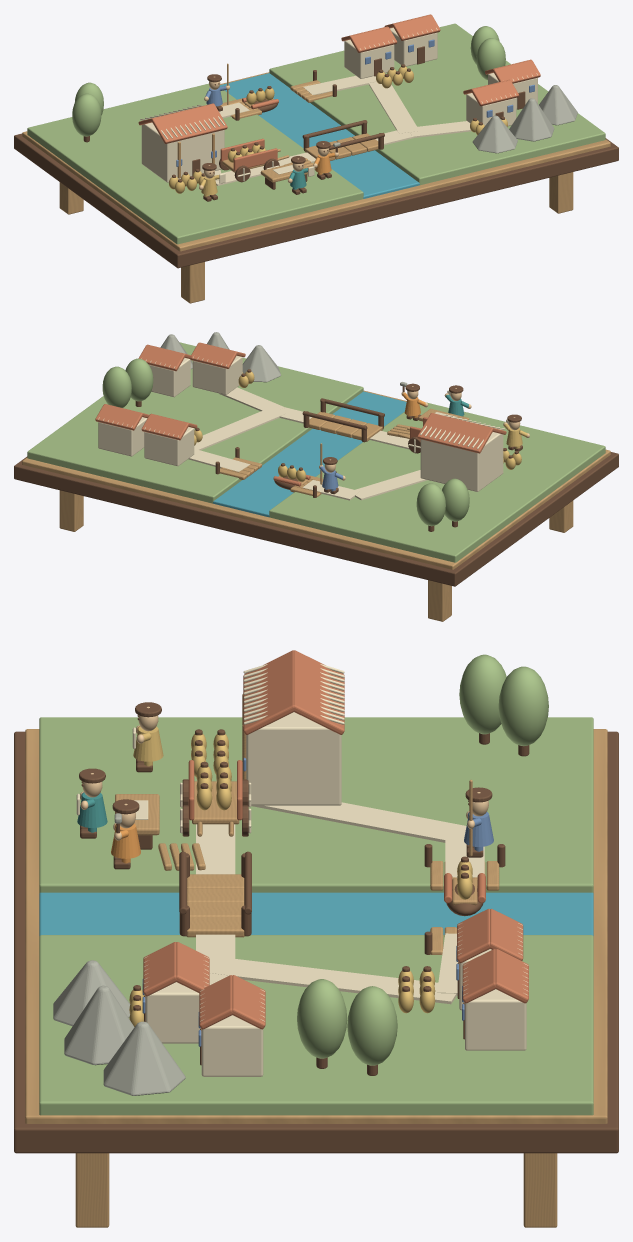
Rendered from chancellor-desk.glb.
3 renders of one model, top to bottom at view 1: azimuth 30°, elevation 25°; view 2: azimuth 150°, elevation 25°; view 3: azimuth 270°, elevation 25°, orthographic. The views are drawn at different scales.
Parts seen in each view (by area): view 1: fixed_world_surface, granary_surface, River house 0_surface, River house 1_surface, Mountain house 0_surface, Mountain house 1_surface, cart_surface, bridge, bridge_surface, engineer_surface, chancellor_surface, grainkeeper_surface (+3 smaller); view 2: fixed_world_surface, granary_surface, River house 0_surface, Mountain house 0_surface, River house 1_surface, Mountain house 1_surface, bridge, bridge_surface, carrier_surface, engineer_surface, grainkeeper_surface, pier_1_surface (+1 smaller); view 3: fixed_world_surface, granary_surface, Mountain house 1_surface, River house 1_surface, Mountain house 0_surface, bridge, River house 0_surface, cart_surface, grainkeeper_surface, chancellor_surface, carrier_surface, engineer_surface (+4 smaller).
Boxes of the visible parts, x1,y1,x2,y2 form: fixed_world_surface: [14, 23, 618, 303]; granary_surface: [138, 103, 227, 182]; River house 0_surface: [341, 26, 397, 78]; River house 1_surface: [384, 14, 440, 66]; Mountain house 0_surface: [463, 79, 519, 126]; Mountain house 1_surface: [485, 59, 540, 109]; cart_surface: [220, 138, 289, 181]; bridge: [305, 133, 378, 160]; bridge_surface: [302, 120, 384, 151]; engineer_surface: [313, 141, 340, 179]; chancellor_surface: [288, 156, 314, 194]; grainkeeper_surface: [199, 163, 225, 201]; fixed_world_surface: [14, 332, 618, 621]; granary_surface: [417, 413, 506, 491]; River house 0_surface: [141, 413, 197, 466]; Mountain house 0_surface: [190, 342, 245, 394]; River house 1_surface: [95, 404, 149, 456]; Mountain house 1_surface: [138, 344, 192, 397]; bridge: [309, 411, 382, 441]; bridge_surface: [302, 398, 384, 442]; carrier_surface: [319, 443, 345, 494]; engineer_surface: [400, 382, 428, 420]; grainkeeper_surface: [503, 414, 529, 451]; pier_1_surface: [215, 447, 261, 479]; fixed_world_surface: [14, 654, 618, 1227]; granary_surface: [242, 650, 344, 805]; Mountain house 1_surface: [198, 975, 265, 1076]; River house 1_surface: [462, 949, 528, 1050]; Mountain house 0_surface: [142, 942, 209, 1043]; bridge: [186, 874, 244, 937]; River house 0_surface: [456, 908, 523, 1010]; cart_surface: [180, 760, 251, 836]; grainkeeper_surface: [132, 702, 163, 772]; chancellor_surface: [76, 768, 107, 838]; carrier_surface: [464, 779, 493, 857]; engineer_surface: [111, 799, 140, 869].
Size of the model in its own units: 16.8 by 4.98 by 10.8.
Materials: 12 (1 with a texture image).
